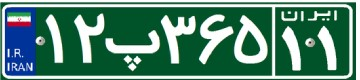character: (106, 12, 161, 73), (160, 9, 198, 72), (197, 10, 235, 72), (68, 11, 106, 72), (235, 10, 270, 72), (313, 24, 345, 76), (40, 11, 67, 71), (277, 24, 307, 74)
